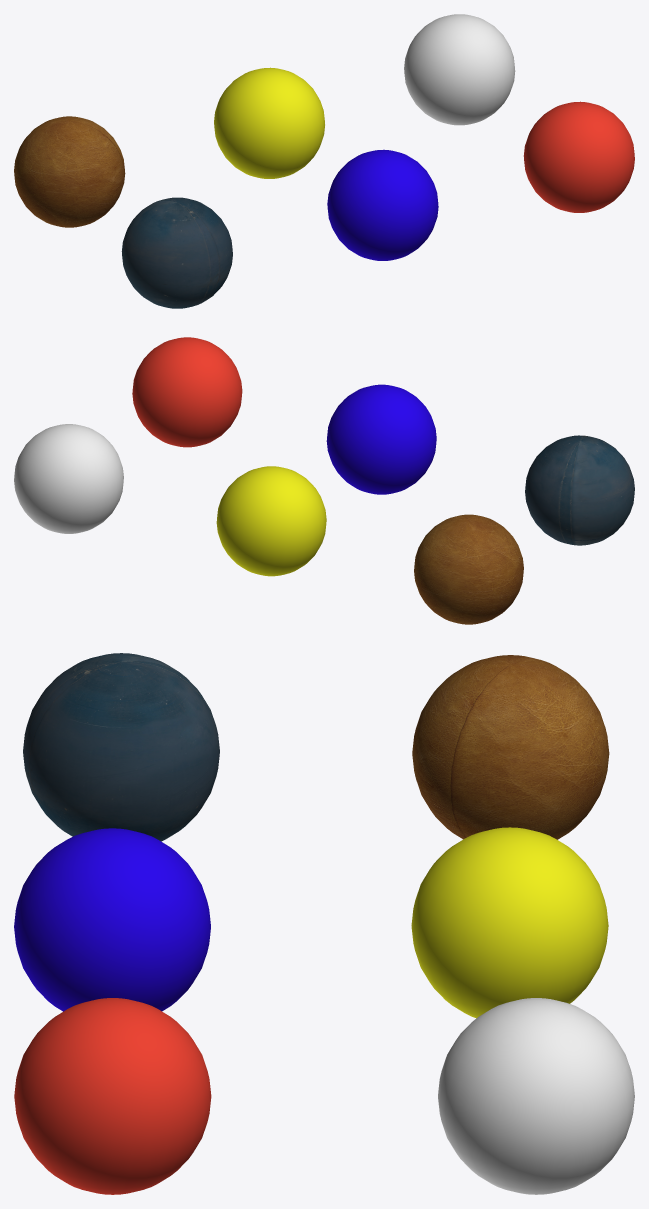
Rendered from ssss.glb.
The picture shows the model from 3 angles, top to bottom: view 1: azimuth 30°, elevation 25°; view 2: azimuth 150°, elevation 25°; view 3: azimuth 270°, elevation 25°; orthographic projection. The views are drawn at different scales.
Parts seen in each view (by area): view 1: Sphere.001, Sphere.005, Sphere.003, Sphere.004, Sphere.006, Sphere; view 2: Sphere.001, Sphere.003, Sphere.005, Sphere, Sphere.006, Sphere.004; view 3: Sphere.004, Sphere.006, Sphere.003, Sphere, Sphere.001, Sphere.005.
Boxes of the visible parts, box(x1,y1,x2,y2) form: Sphere.001: box(14, 116, 125, 227); Sphere.005: box(327, 149, 438, 260); Sphere.003: box(121, 197, 232, 308); Sphere.004: box(404, 14, 515, 125); Sphere.006: box(523, 101, 634, 212); Sphere: box(214, 67, 324, 178); Sphere.001: box(414, 514, 523, 624); Sphere.003: box(525, 435, 634, 545); Sphere.005: box(326, 384, 436, 494); Sphere: box(216, 466, 326, 576); Sphere.006: box(132, 337, 242, 447); Sphere.004: box(14, 424, 123, 533); Sphere.004: box(438, 998, 634, 1194); Sphere.006: box(14, 998, 211, 1194); Sphere.003: box(23, 653, 219, 841); Sphere: box(411, 827, 608, 1018); Sphere.001: box(412, 655, 609, 839); Sphere.005: box(14, 828, 210, 1011).
Bounding box in the file's own units: 25.69 × 5 × 15.75.
6 materials, 2 textured.
